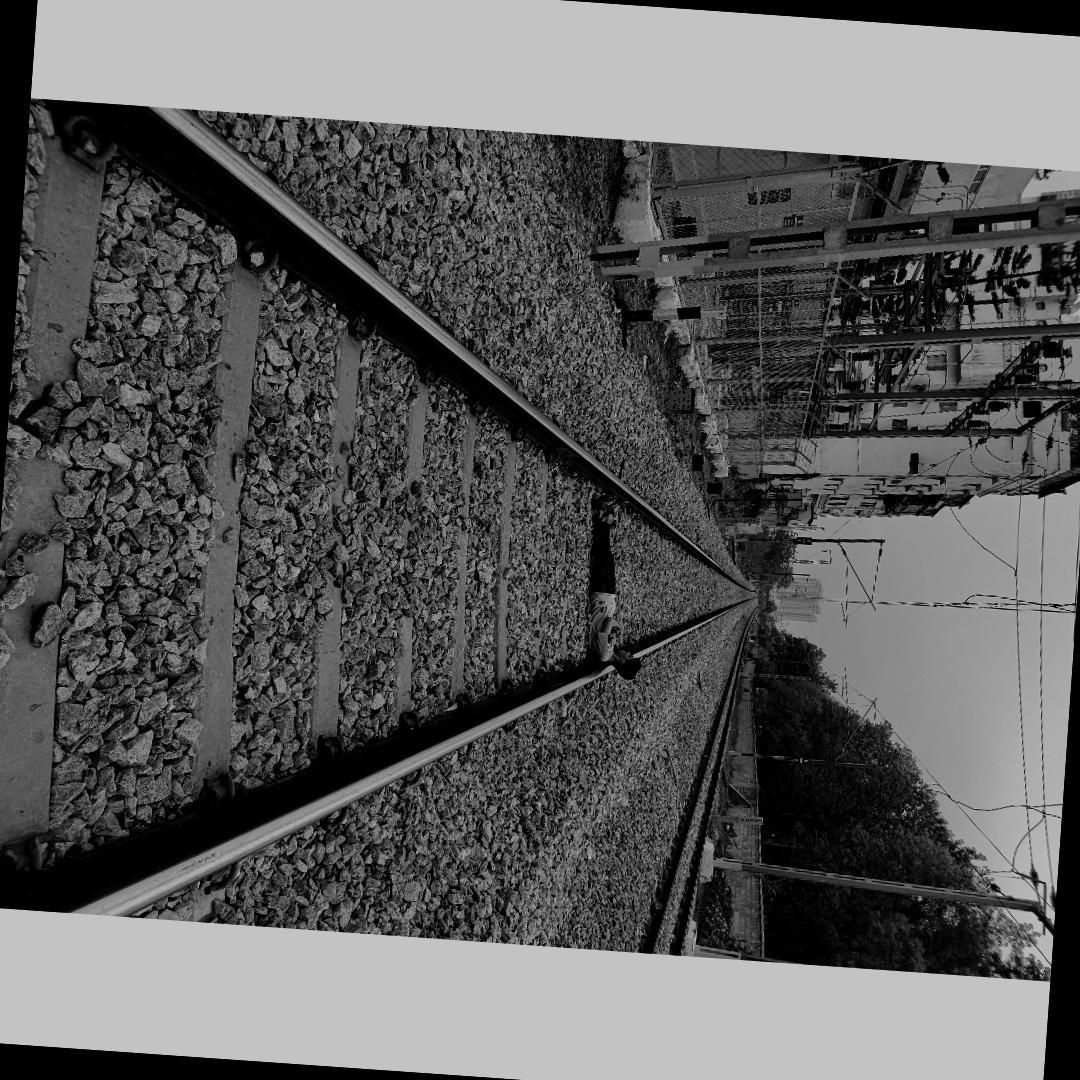sleeping: (580, 490, 654, 680)
track: (0, 98, 760, 919)
